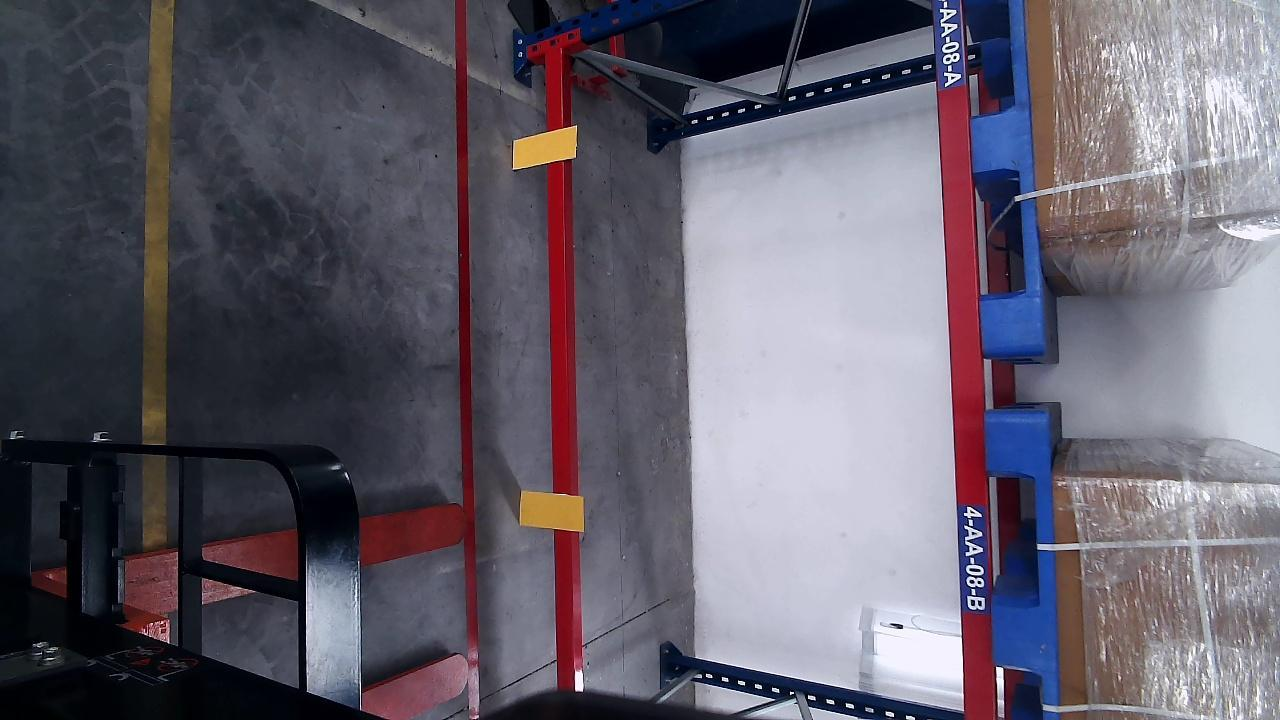h_rack: (931, 0, 998, 720), (540, 48, 576, 690)
orange_strip: (511, 125, 576, 168), (517, 492, 586, 528)
red_line: (453, 2, 482, 718)
small_pallet: (960, 2, 1050, 349), (986, 416, 1056, 718)
yellow_line: (142, 0, 175, 551)
